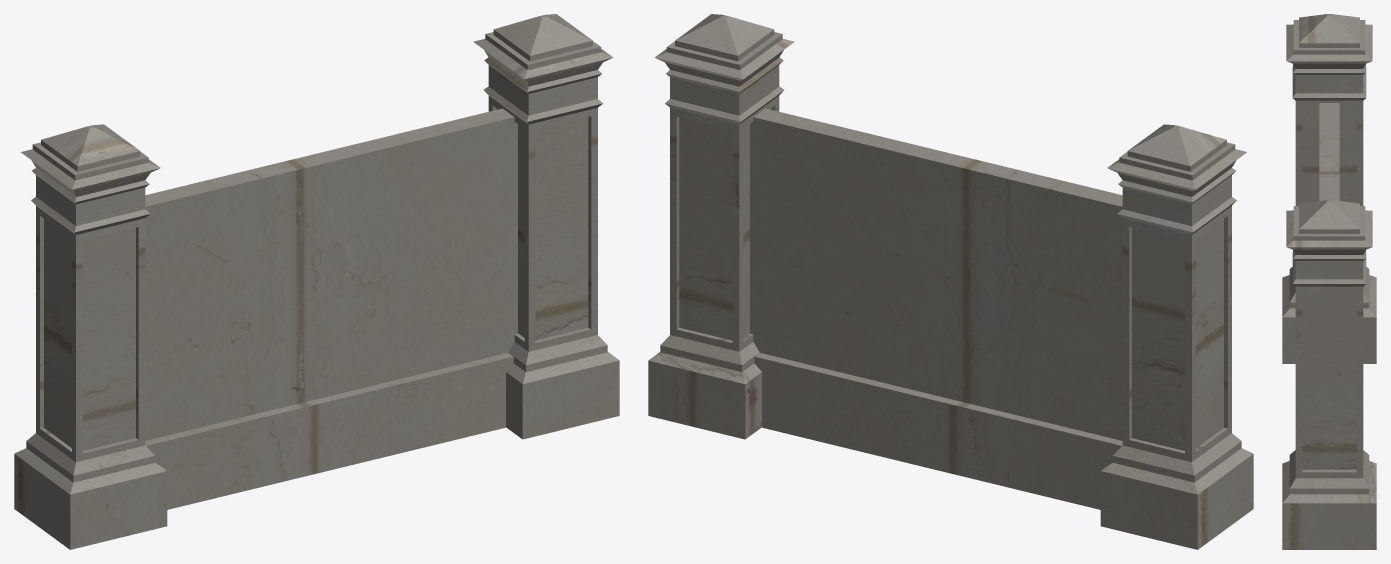
File: Pagar1.fbx
The picture shows the model from 3 angles, left to right: view 1: azimuth 30°, elevation 25°; view 2: azimuth 150°, elevation 25°; view 3: azimuth 270°, elevation 25°; orthographic projection. The views are drawn at different scales.
Visible parts, largest first — view 1: Pagar1; view 2: Pagar1; view 3: Pagar1.
Part boxes in pixels (left/top/right/bottom): Pagar1: left=14, top=14, right=619, bottom=549; Pagar1: left=648, top=14, right=1253, bottom=549; Pagar1: left=1282, top=14, right=1376, bottom=549.
Bounding box in the file's own units: 486 × 330 × 85.75.
